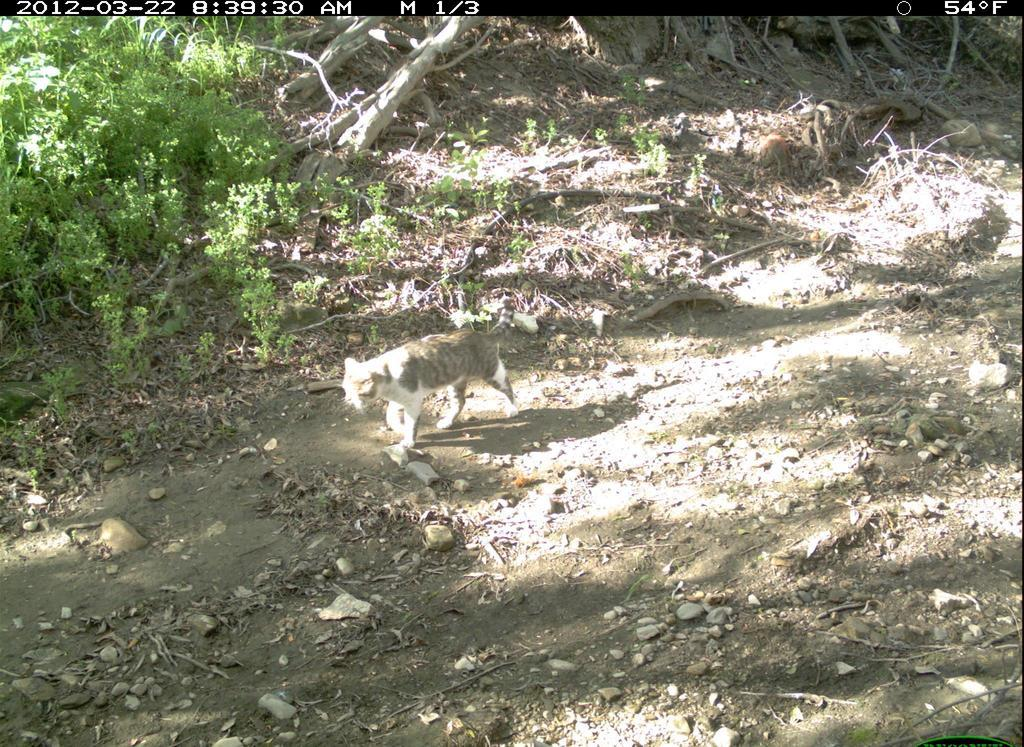cat: (297, 295, 556, 468)
